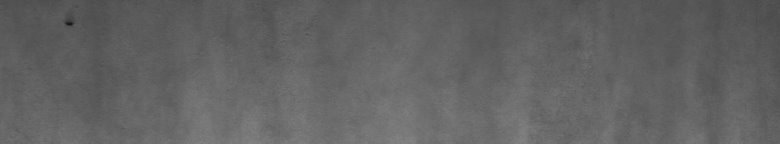fi: (60, 16, 80, 32)
